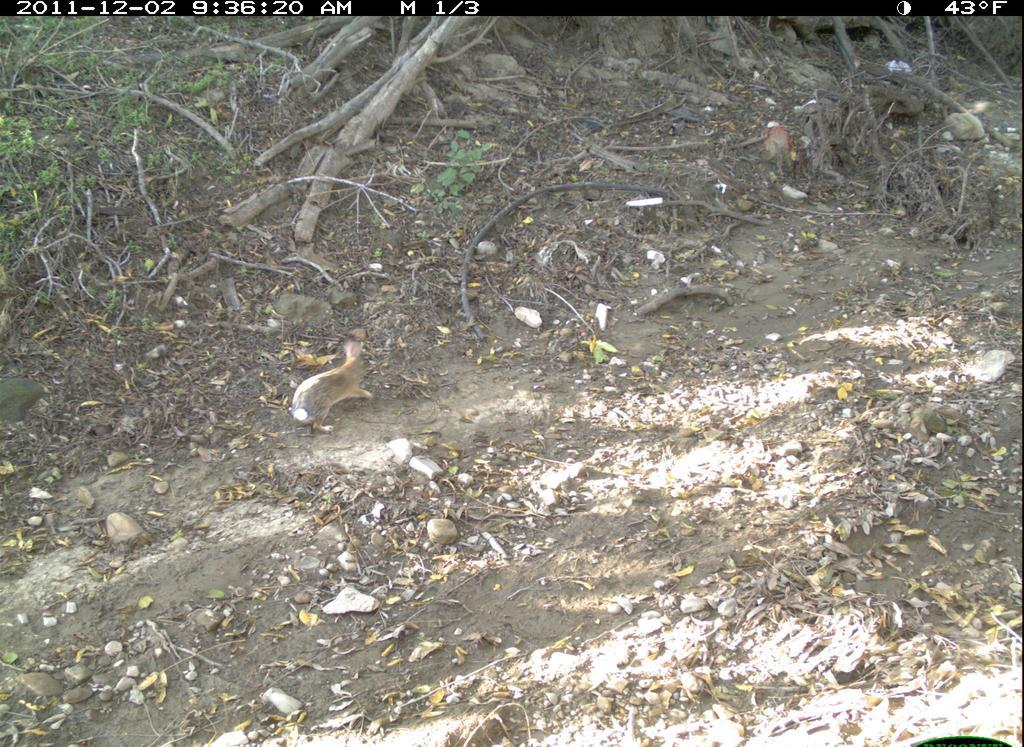rabbit: (282, 332, 386, 451)
